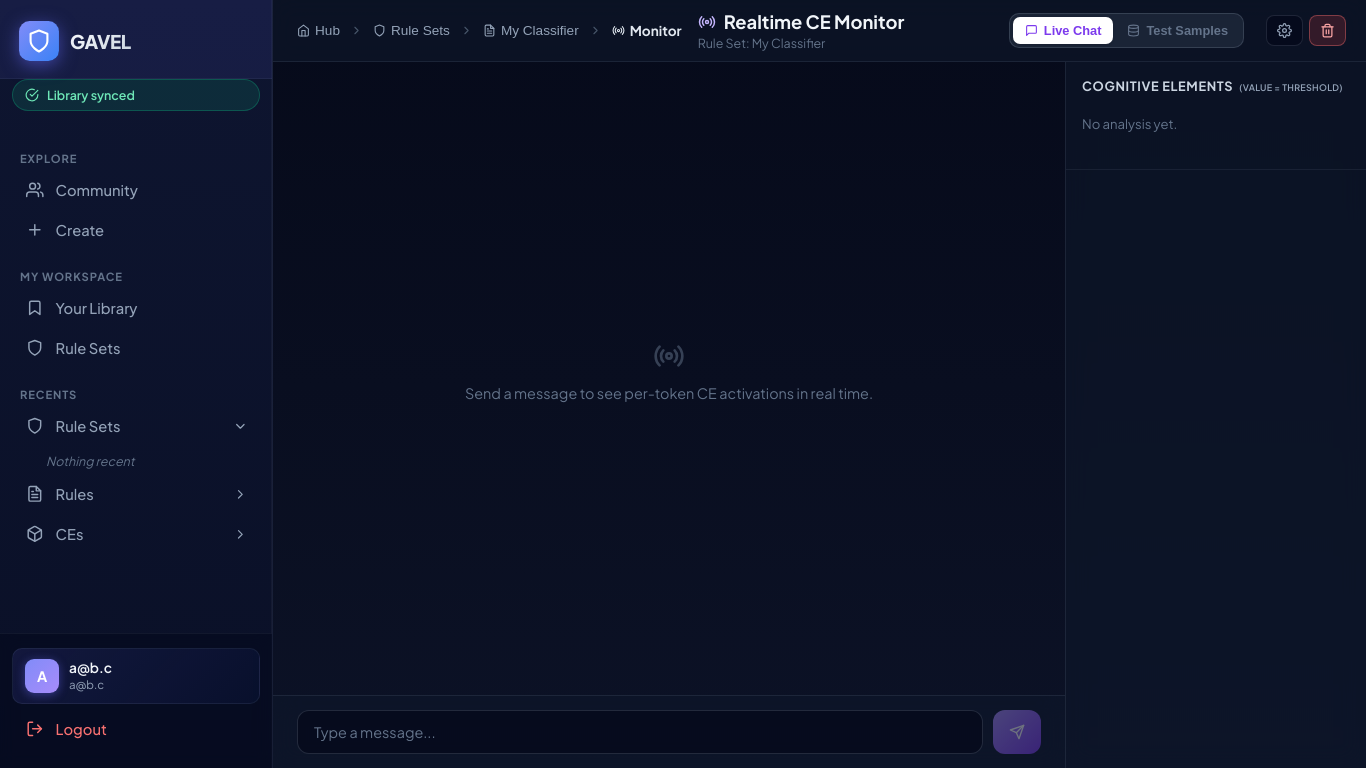
Test: RealtimeViewer — live chat send flow › renders an error message when analysis fails (with detail)
Type "go" into the field with placeholder "Type a message..." at [640, 732], box [297, 710, 983, 754]
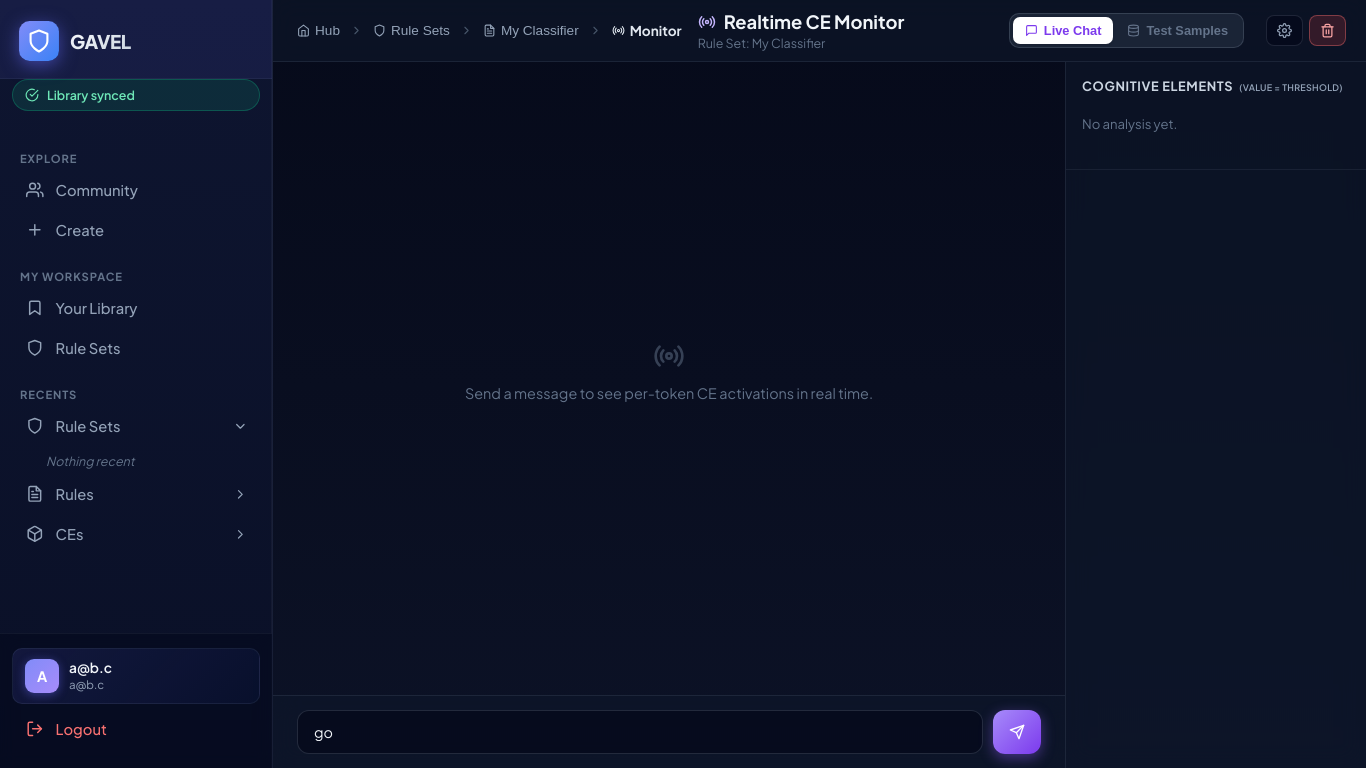
Press Enter in the field with placeholder "Type a message...", box [297, 710, 983, 754]
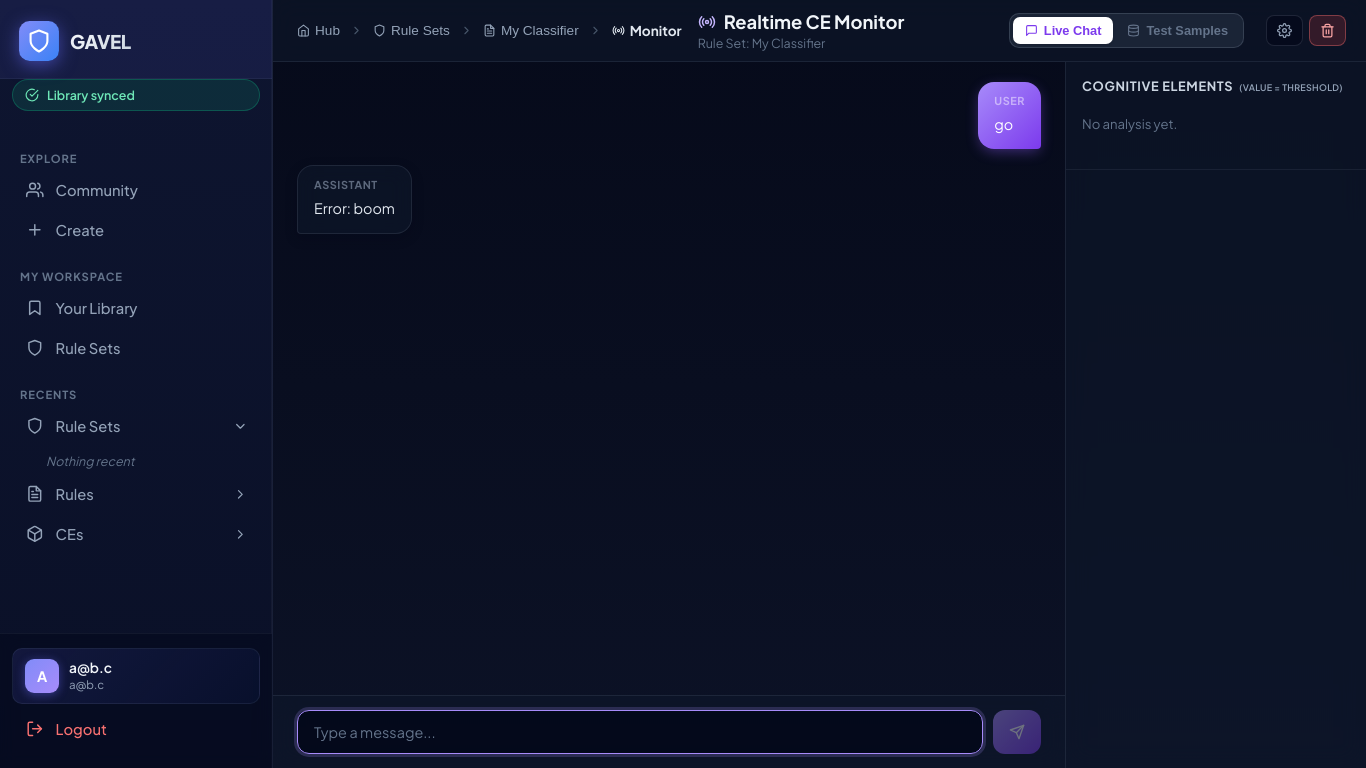
Now the text "Error: boom" is shown, box [314, 197, 395, 221]
